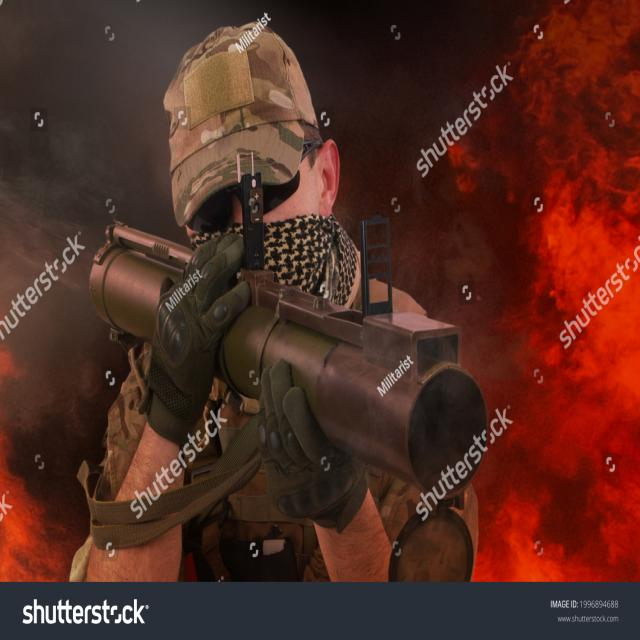bazooka: (67, 214, 519, 519)
